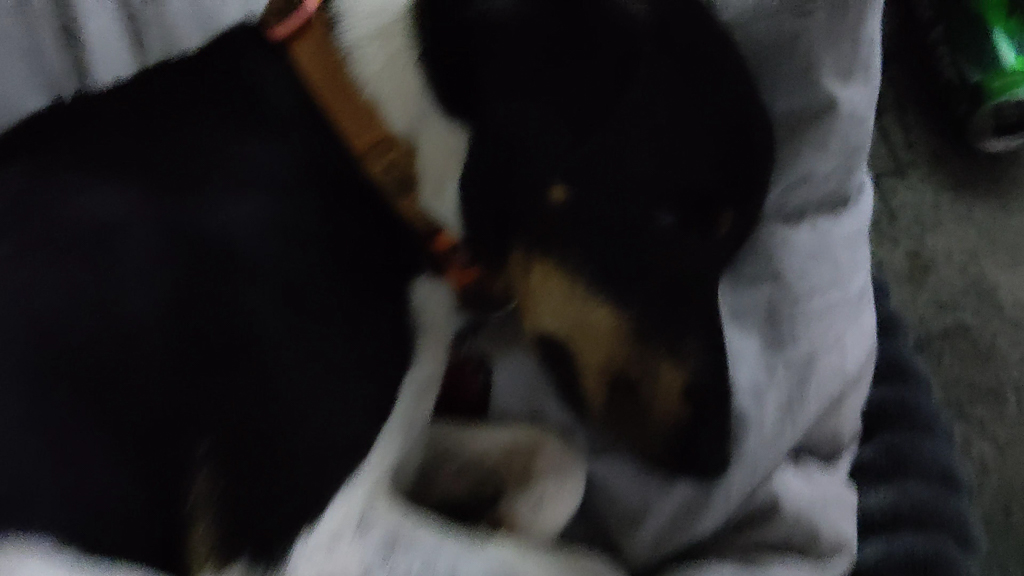Dog: (0, 0, 790, 576)
